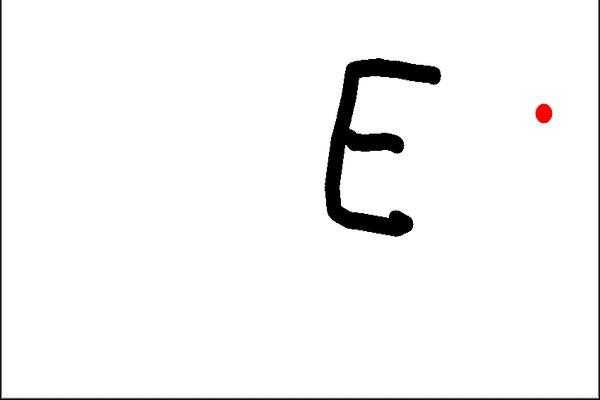E: (318, 53, 446, 240)
